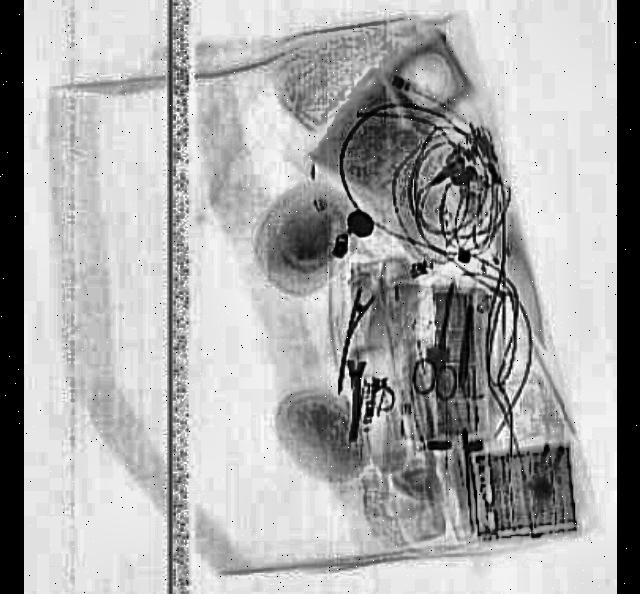Scissors: (409, 280, 468, 404)
